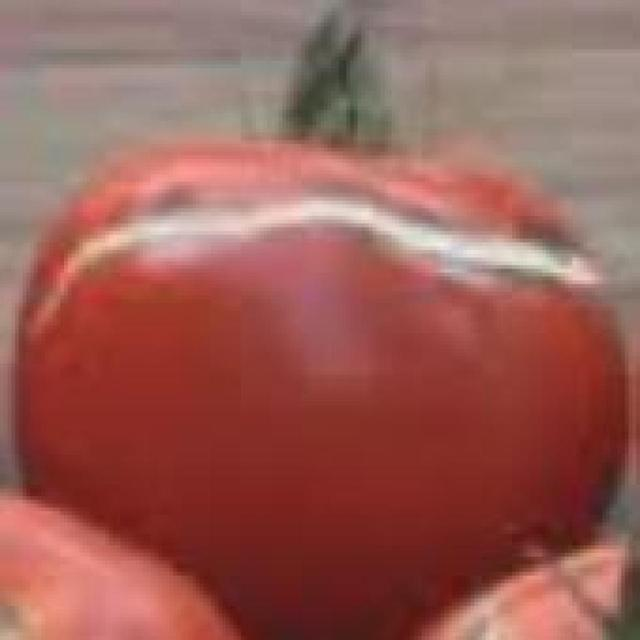Cracking Fruit: (14, 114, 405, 228)
